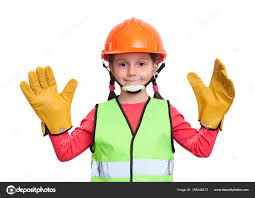Person_wearing_helmet: (98, 16, 168, 69)
